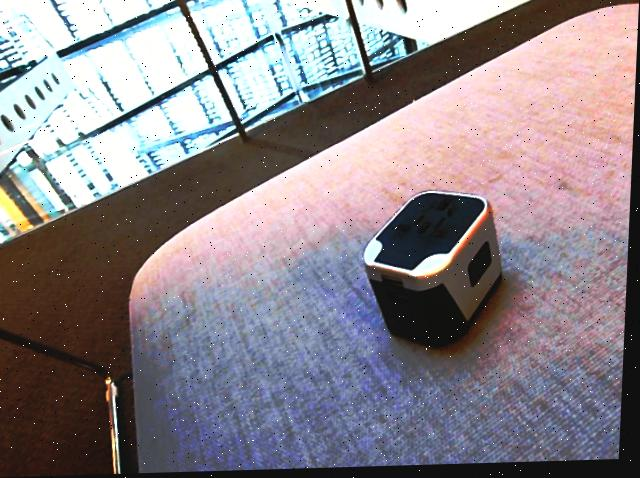adapter: (362, 190, 508, 351)
